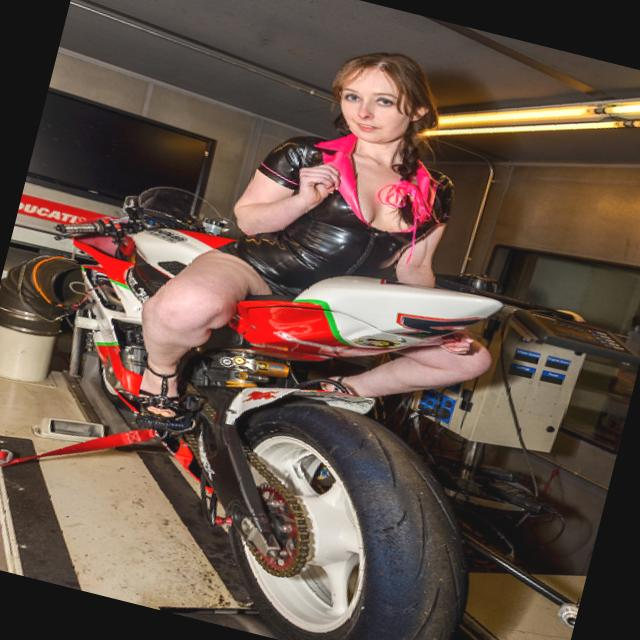Vehicle: (0, 167, 553, 640)
